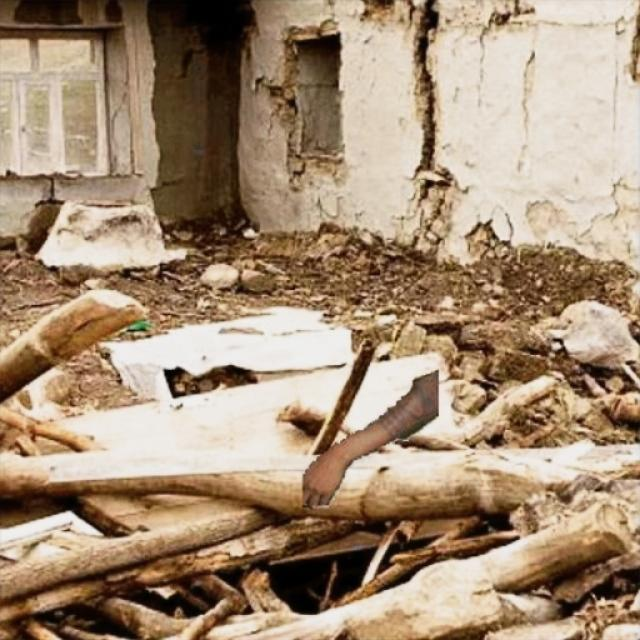Person in Rubble: (302, 368, 438, 508)
